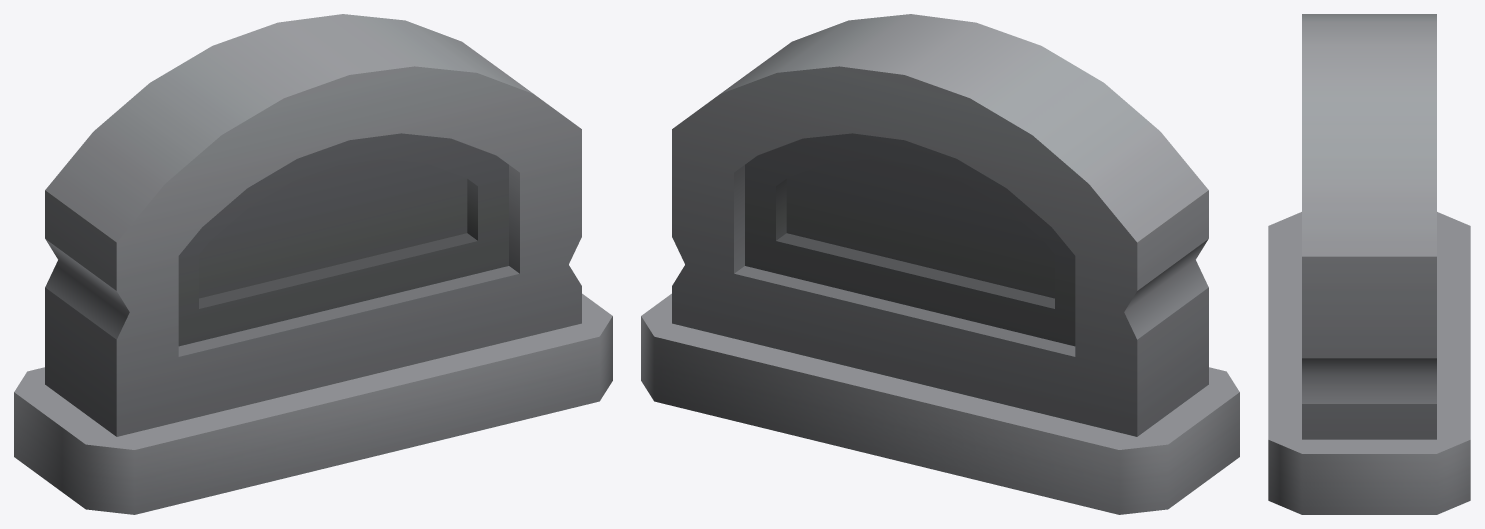
File: gravestone-wide.glb
The picture shows the model from 3 angles, left to right: view 1: azimuth 30°, elevation 25°; view 2: azimuth 150°, elevation 25°; view 3: azimuth 270°, elevation 25°; orthographic projection. The views are drawn at different scales.
Parts seen in each view (by area): view 1: gravestone-wide; view 2: gravestone-wide; view 3: gravestone-wide.
Boxes of the visible parts, x1,y1,x2,y2 form: gravestone-wide: (14, 14, 612, 514); gravestone-wide: (641, 14, 1239, 514); gravestone-wide: (1268, 14, 1470, 514).
Size of the model in its own units: 1.28 by 0.8555 by 0.45.
1 material, 1 textured.
